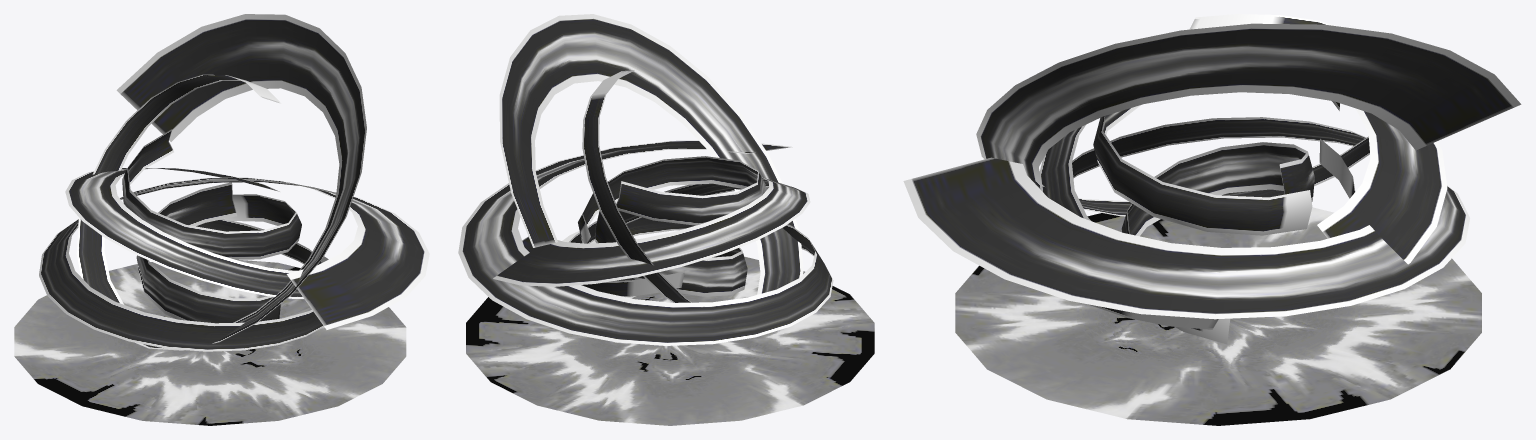
File: effect_meirenyu_atk08_atk_donghua.fbx
The picture shows the model from 3 angles, left to right: view 1: azimuth 30°, elevation 25°; view 2: azimuth 150°, elevation 25°; view 3: azimuth 270°, elevation 25°; orthographic projection. The views are drawn at different scales.
Parts seen in each view (by area): view 1: effect_aolabeibei_baoqi_01, effect_trails_mry_mo01 (2), effect_trails_mry_mo01, effect_trails_mry_mo01 (1), effect_jmws_luoxuanxian_mo, effect_jmws_luoxuanxian_mo (1); view 2: effect_aolabeibei_baoqi_01, effect_trails_mry_mo01 (2), effect_trails_mry_mo01, effect_trails_mry_mo01 (1), effect_jmws_luoxuanxian_mo, effect_jmws_luoxuanxian_mo (1); view 3: effect_aolabeibei_baoqi_01, effect_trails_mry_mo01, effect_trails_mry_mo01 (2), effect_trails_mry_mo01 (1), effect_jmws_luoxuanxian_mo, effect_jmws_luoxuanxian_mo (1).
Boxes of the visible parts, x1=… form: effect_aolabeibei_baoqi_01: x1=14, y1=259, x2=406, y2=425; effect_trails_mry_mo01 (2): x1=76, y1=14, x2=366, y2=350; effect_trails_mry_mo01: x1=39, y1=177, x2=429, y2=351; effect_trails_mry_mo01 (1): x1=65, y1=168, x2=321, y2=298; effect_jmws_luoxuanxian_mo: x1=122, y1=129, x2=301, y2=259; effect_jmws_luoxuanxian_mo (1): x1=136, y1=182, x2=280, y2=323; effect_aolabeibei_baoqi_01: x1=466, y1=256, x2=874, y2=425; effect_trails_mry_mo01 (2): x1=499, y1=14, x2=803, y2=302; effect_trails_mry_mo01: x1=458, y1=140, x2=833, y2=345; effect_trails_mry_mo01 (1): x1=493, y1=177, x2=810, y2=296; effect_jmws_luoxuanxian_mo: x1=578, y1=156, x2=765, y2=243; effect_jmws_luoxuanxian_mo (1): x1=595, y1=211, x2=747, y2=298; effect_aolabeibei_baoqi_01: x1=955, y1=207, x2=1481, y2=425; effect_trails_mry_mo01: x1=903, y1=117, x2=1469, y2=329; effect_trails_mry_mo01 (2): x1=976, y1=14, x2=1521, y2=216; effect_trails_mry_mo01 (1): x1=1039, y1=108, x2=1447, y2=264; effect_jmws_luoxuanxian_mo: x1=1093, y1=101, x2=1339, y2=235; effect_jmws_luoxuanxian_mo (1): x1=1121, y1=142, x2=1314, y2=344.
Size of the model in its own units: 2.93 by 2.16 by 3.28.
